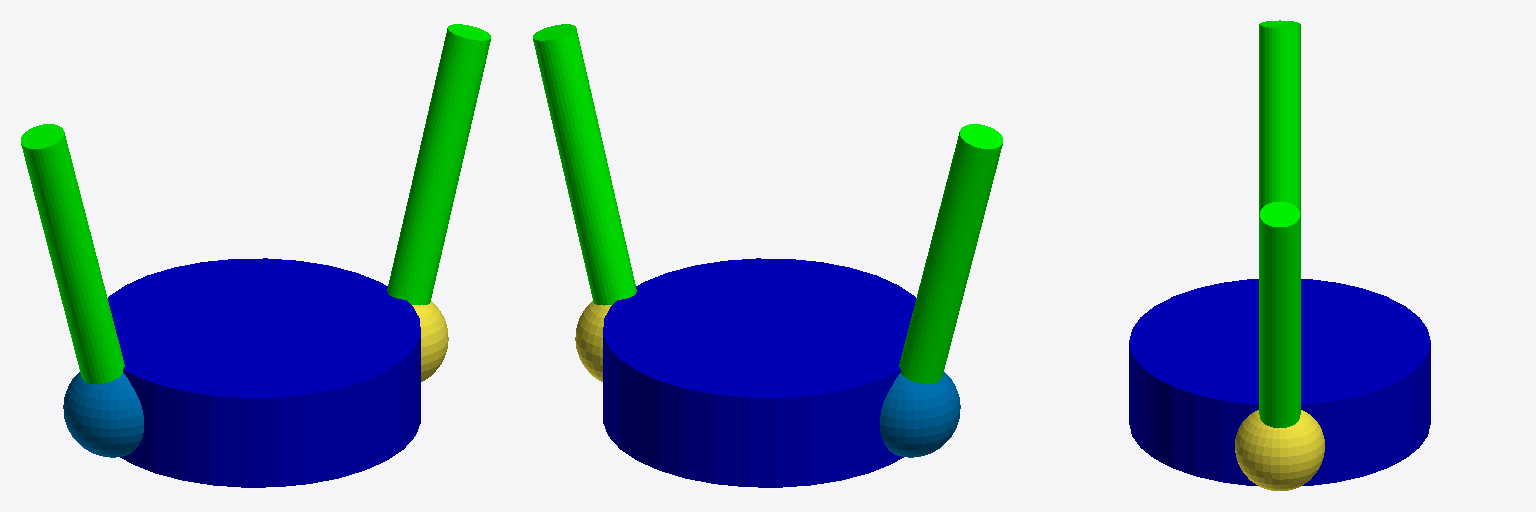
The robot description file, URDF, robot "gripper_2f_1j":
<?xml version='1.0' encoding='UTF-8'?>
<robot name="gripper_2f_1j">
  <link name="palm">
    <inertial>
      <origin xyz="0.0 0.0 0.0" rpy="0.0 -0.0 0.0"/>
      <mass value="1.0"/>
      <inertia ixx="1.0" ixy="0.0" ixz="0.0" iyy="1.0" iyz="0.0" izz="1.0"/>
    </inertial>
    <visual>
      <geometry>
        <cylinder radius="0.05" length="0.03"/>
      </geometry>
      <material name="blue"/>
      <origin xyz="0.0 0.0 0.0" rpy="0.0 -0.0 0.0"/>
    </visual>
    <collision>
      <geometry>
        <cylinder radius="0.05" length="0.03"/>
      </geometry>
      <origin xyz="0.0 0.0 0.0" rpy="0.0 0.0 0.0"/>
    </collision>
  </link>
  <link name="f11">
    <inertial>
      <origin xyz="0.0 0.0 0.0" rpy="0.0 -0.0 0.0"/>
      <mass value="1.0"/>
      <inertia ixx="1.0" ixy="0.0" ixz="0.0" iyy="1.0" iyz="0.0" izz="1.0"/>
    </inertial>
    <visual>
      <geometry>
        <cylinder radius="0.0067993569922371695" length="0.0993832564694178"/>
      </geometry>
      <material name="green"/>
      <origin xyz="0.0 0.0 0.0496916282347089" rpy="0.0 -0.0 0.0"/>
    </visual>
    <collision>
      <geometry>
        <cylinder radius="0.0067993569922371695" length="0.0993832564694178"/>
      </geometry>
      <origin xyz="0.0 0.0 0.05" rpy="0.0 0.0 0.0"/>
    </collision>
  </link>
  <link name="f21">
    <inertial>
      <origin xyz="0.0 0.0 0.0" rpy="0.0 -0.0 0.0"/>
      <mass value="1.0"/>
      <inertia ixx="1.0" ixy="0.0" ixz="0.0" iyy="1.0" iyz="0.0" izz="1.0"/>
    </inertial>
    <visual>
      <geometry>
        <cylinder radius="0.0067993569922371695" length="0.0993832564694178"/>
      </geometry>
      <material name="green"/>
      <origin xyz="0.0 0.0 0.0496916282347089" rpy="0.0 -0.0 0.0"/>
    </visual>
    <collision>
      <geometry>
        <cylinder radius="0.0067993569922371695" length="0.0993832564694178"/>
      </geometry>
      <origin xyz="0.0 0.0 0.05" rpy="0.0 0.0 0.0"/>
    </collision>
  </link>
  <link name="f11_base">
    <inertial>
      <origin xyz="0.0 0.0 0.0" rpy="0.0 -0.0 0.0"/>
      <mass value="1.0"/>
      <inertia ixx="1.0" ixy="0.0" ixz="0.0" iyy="1.0" iyz="0.0" izz="1.0"/>
    </inertial>
    <visual>
      <geometry>
        <sphere radius="0.015"/>
      </geometry>
      <origin xyz="0.0 0.0 0.0" rpy="0.0 -0.0 0.0"/>
    </visual>
  </link>
  <link name="f21_base">
    <inertial>
      <origin xyz="0.0 0.0 0.0" rpy="0.0 -0.0 0.0"/>
      <mass value="1.0"/>
      <inertia ixx="1.0" ixy="0.0" ixz="0.0" iyy="1.0" iyz="0.0" izz="1.0"/>
    </inertial>
    <visual>
      <geometry>
        <sphere radius="0.015"/>
      </geometry>
      <origin xyz="0.0 0.0 0.0" rpy="0.0 -0.0 0.0"/>
    </visual>
  </link>
  <joint name="f11_joint" type="revolute">
    <dynamics damping="100.0" friction="1.0"/>
    <limit effort="30.0" velocity="2.0" lower="-0.6" upper="0.25"/>
    <parent link="f11_base"/>
    <child link="f11"/>
    <axis xyz="0. 1. 0."/>
    <origin xyz="0.0 0.0 0.0" rpy="0.0 0.25 0.0"/>
  </joint>
  <joint name="f21_joint" type="revolute">
    <dynamics damping="100.0" friction="1.0"/>
    <limit effort="30.0" velocity="2.0" lower="-0.6" upper="0.25"/>
    <parent link="f21_base"/>
    <child link="f21"/>
    <axis xyz=" 0. -1.  0."/>
    <origin xyz="0.0 0.0 0.0" rpy="0.0 -0.25 0.0"/>
  </joint>
  <joint name="f11_base_joint" type="fixed">
    <parent link="palm"/>
    <child link="f11_base"/>
    <axis xyz="1. 0. 0."/>
    <origin xyz="0.05 0.0 0.0" rpy="0.0 0.0 0.0"/>
  </joint>
  <joint name="f21_base_joint" type="fixed">
    <parent link="palm"/>
    <child link="f21_base"/>
    <axis xyz="1. 0. 0."/>
    <origin xyz="-0.05 -0.0 0.0" rpy="0.0 0.0 0.0"/>
  </joint>
  <material name="blue">
    <color rgba="0.  0.  0.8 1. "/>
  </material>
  <material name="green">
    <color rgba="0. 1. 0. 1."/>
  </material>
</robot>

--- Render facts (derived) ---
3 views of the same robot in one strip: view 1: azimuth 30°, elevation 25°; view 2: azimuth 150°, elevation 25°; view 3: azimuth 270°, elevation 25° (orthographic).
Robot: gripper_2f_1j — 5 links, 4 joints (2 revolute, 2 fixed); root link palm; default pose: every joint at zero.
Visible links, largest first — view 1: palm, f11, f21, f21_base, f11_base; view 2: palm, f11, f21, f21_base, f11_base; view 3: palm, f11, f21, f11_base.
Boxes of the visible links, x1,y1,x2,y2 form: palm: [108, 258, 420, 487]; f11: [387, 24, 490, 305]; f21: [21, 124, 124, 383]; f21_base: [63, 372, 143, 457]; f11_base: [412, 301, 448, 381]; palm: [603, 258, 915, 487]; f11: [533, 24, 636, 305]; f21: [899, 124, 1002, 383]; f21_base: [880, 372, 960, 457]; f11_base: [575, 301, 611, 381]; palm: [1129, 279, 1430, 485]; f11: [1259, 201, 1300, 427]; f21: [1259, 20, 1300, 213]; f11_base: [1235, 410, 1324, 490].
Bounding box of the posed robot: 0.1624 × 0.1 × 0.113 m (x, y, z).
Geometry: primitives only (box / cylinder / sphere), no mesh files.